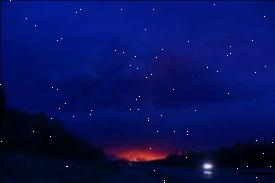fire: (114, 148, 170, 164)
